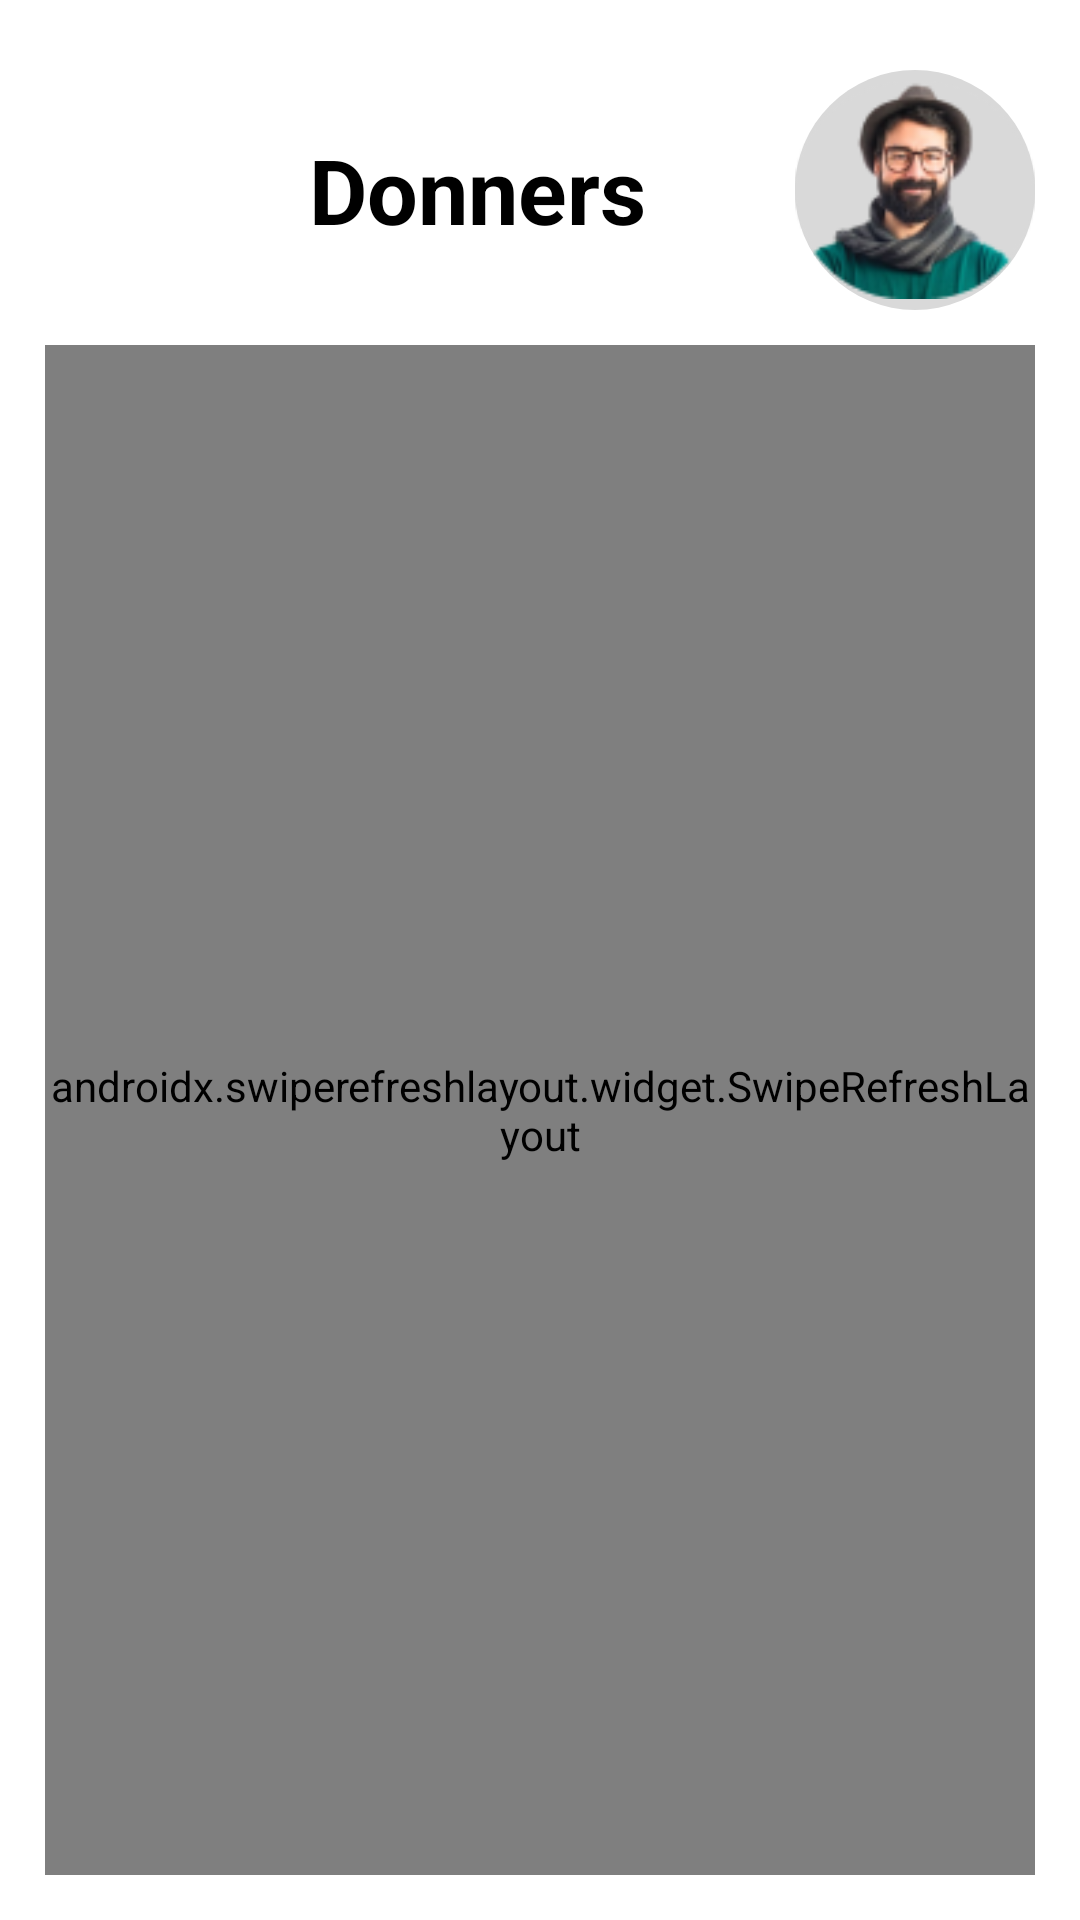

Screen size 1080 × 1920. Icon name, then its box in pixels as detection(x1, y1, x2, y2):
profil: detection(795, 70, 1035, 310)
